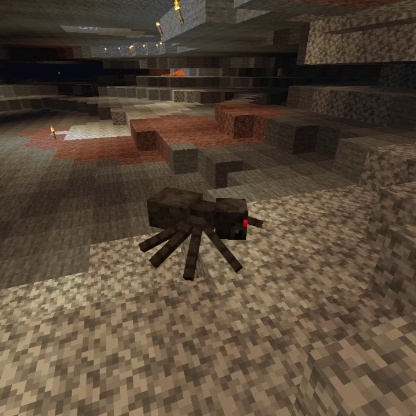spider: (137, 185, 266, 284)
